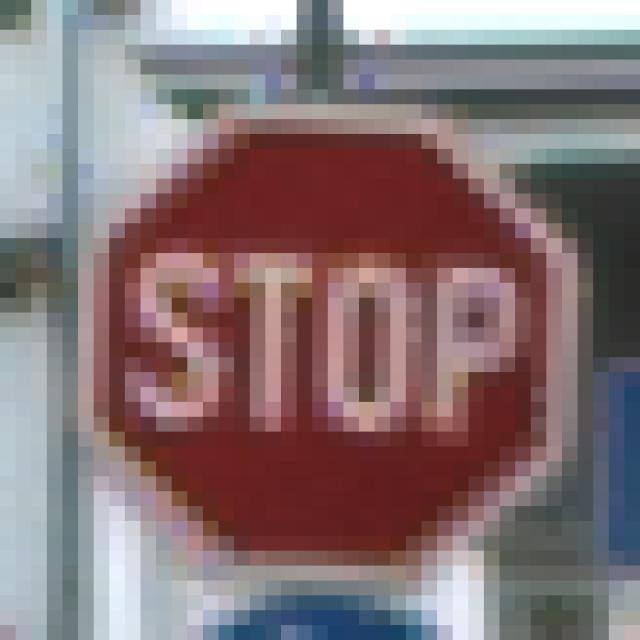STOP: (79, 75, 547, 552)
